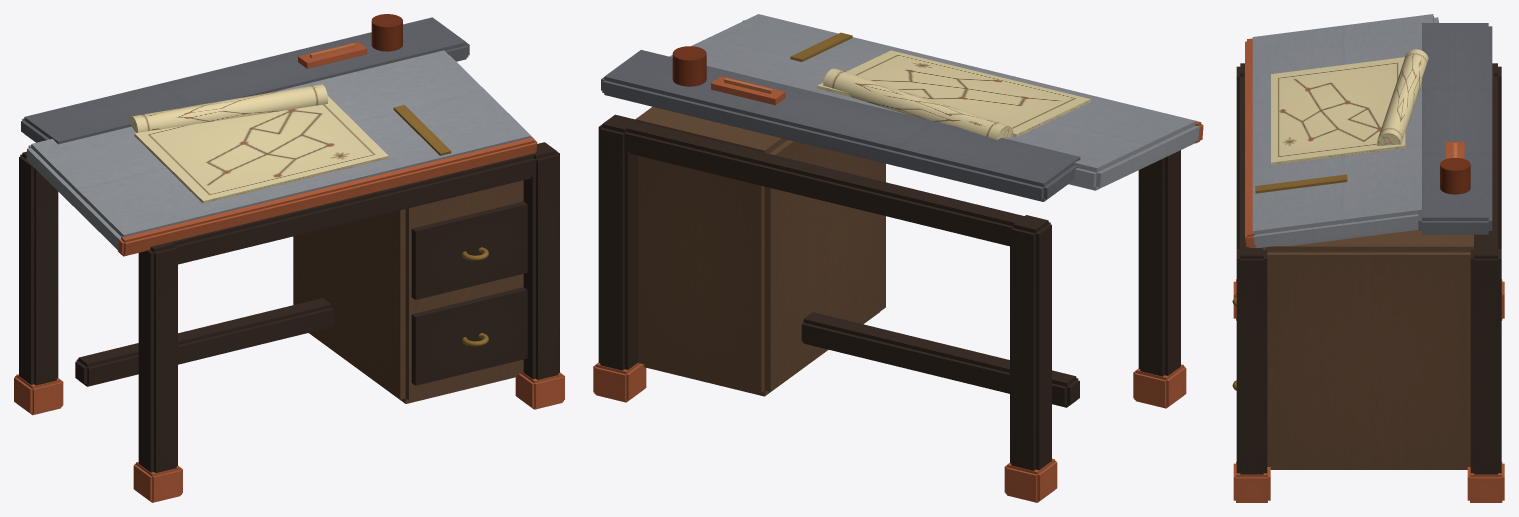
Rendered from desk_cartographer_copper.glb.
3 renders of one model, left to right at view 1: azimuth 30°, elevation 25°; view 2: azimuth 150°, elevation 25°; view 3: azimuth 270°, elevation 25°, orthographic. The views are drawn at different scales.
Visible parts, largest first — view 1: desk_cartographer_copper; view 2: desk_cartographer_copper; view 3: desk_cartographer_copper.
Boxes of the visible parts, left/top/right/bottom form: desk_cartographer_copper: left=14, top=14, right=564, bottom=502; desk_cartographer_copper: left=593, top=14, right=1203, bottom=502; desk_cartographer_copper: left=1232, top=14, right=1504, bottom=502.
Size of the model in its own units: 1.6 by 1.11 by 0.884.
Materials: 1 (1 with a texture image).
